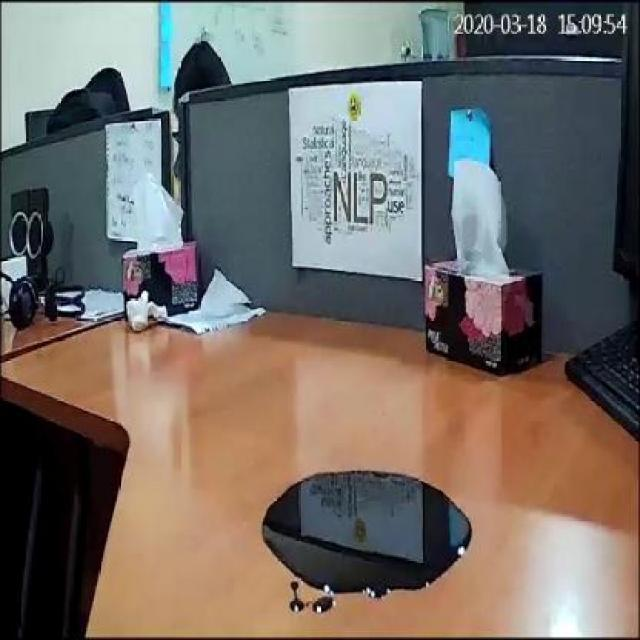spill: (260, 466, 480, 600)
